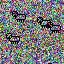sheep: (46, 21, 61, 33), (12, 11, 26, 23), (37, 17, 51, 29), (6, 33, 20, 45)
